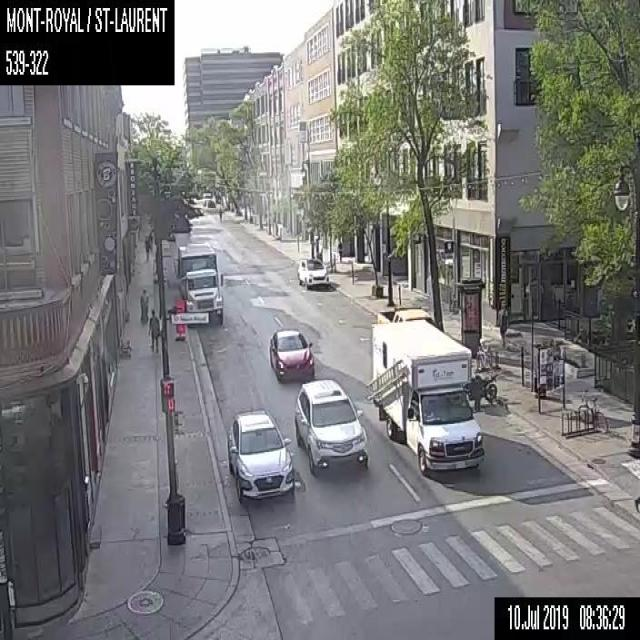construction: (174, 300, 186, 340)
pedestrian: (136, 286, 154, 324), (148, 309, 159, 353), (497, 304, 508, 344), (471, 372, 481, 411), (142, 230, 153, 262)
vehicle: (369, 319, 486, 471), (290, 375, 365, 488), (222, 403, 295, 505), (175, 239, 222, 324), (268, 322, 314, 378), (296, 253, 329, 288), (479, 372, 498, 400)
